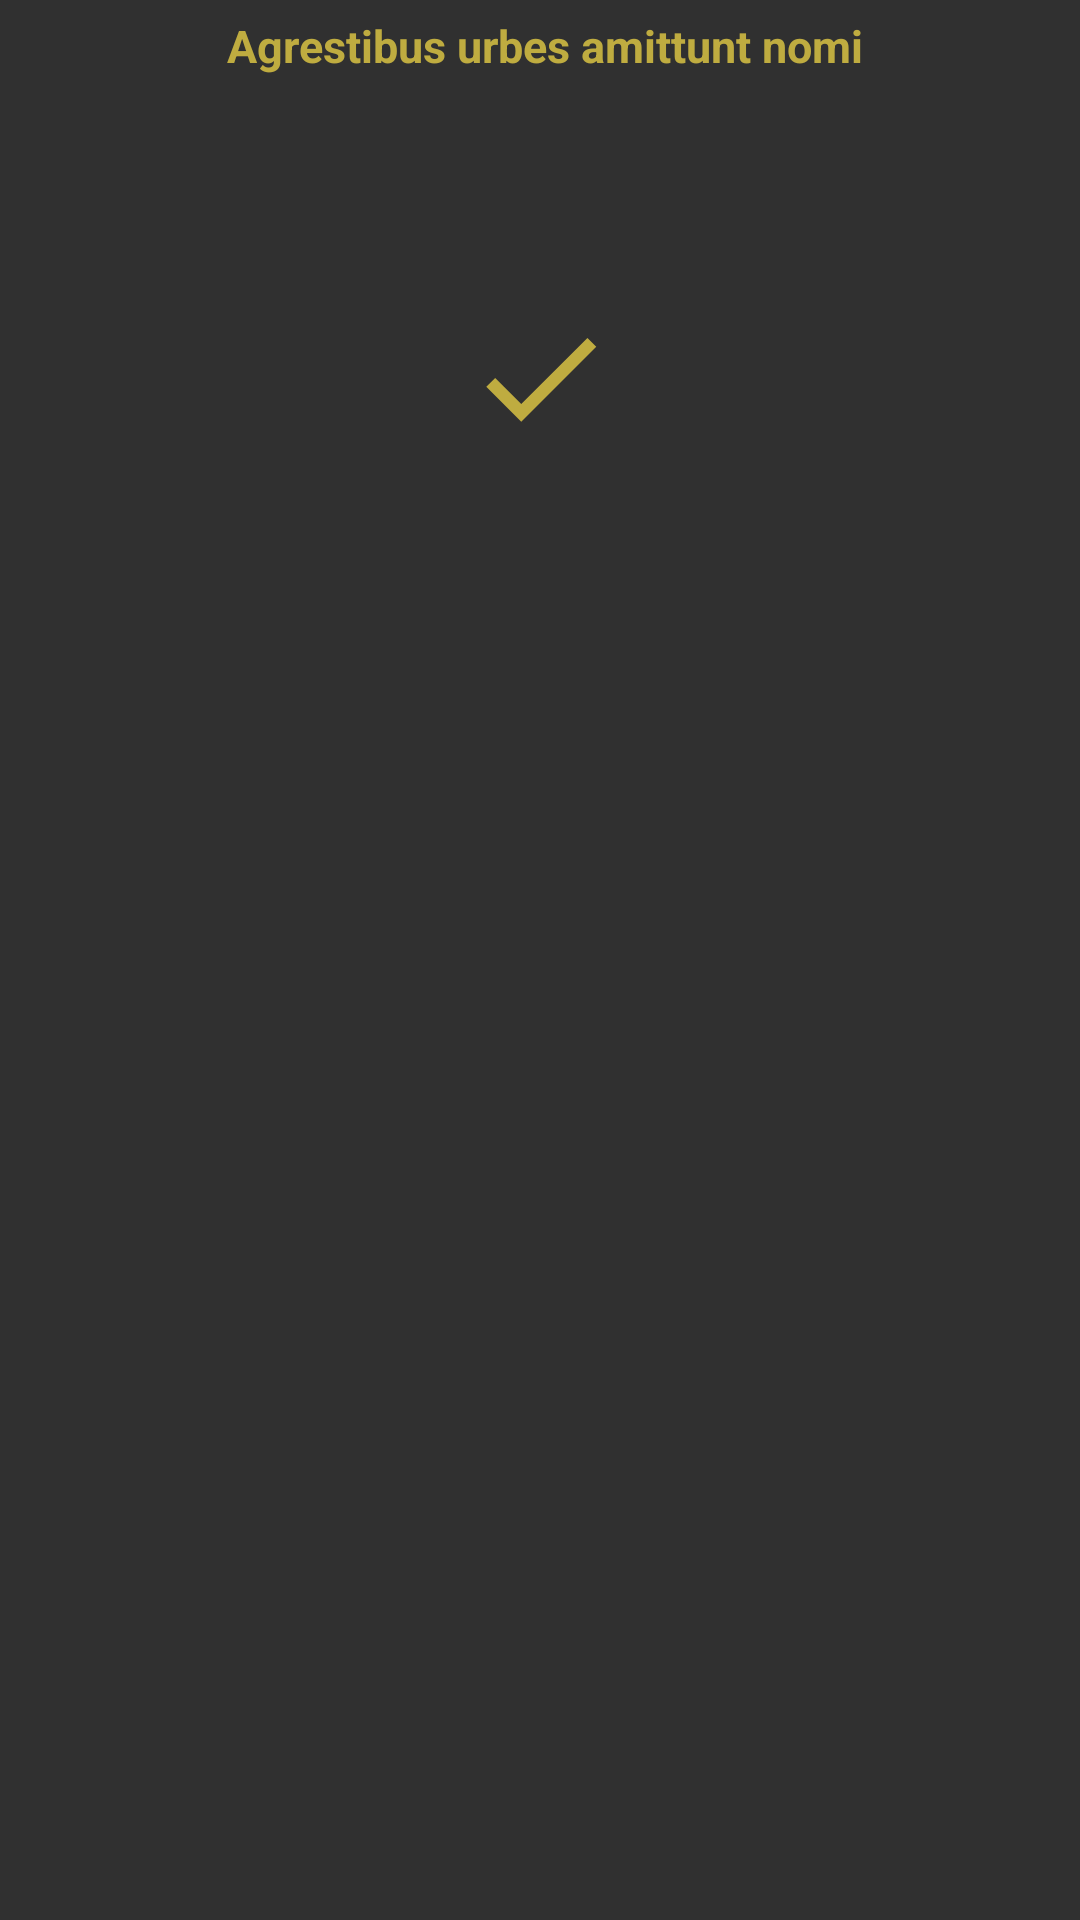

Icon bounding boxes for this 1080 x 1920 phone screenshot, format (x1, y1, x2, y2):
check: (486, 338, 596, 422)
